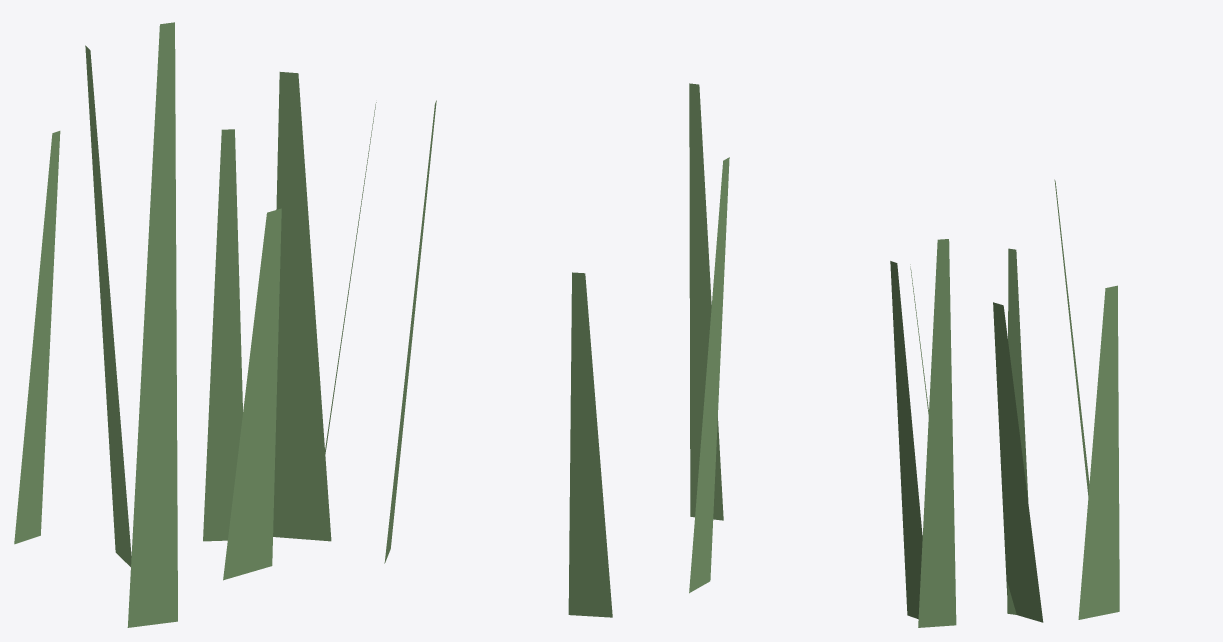
The model's file is veg_grass_green_03.glb.
3 renders of one model, left to right at view 1: azimuth 30°, elevation 25°; view 2: azimuth 150°, elevation 25°; view 3: azimuth 270°, elevation 25°, orthographic. The views are drawn at different scales.
Visible parts, largest first — view 1: blade_03, blade_02, blade_09, blade_04, blade_07, blade_12, blade_00; view 2: blade_01, blade_05, blade_12; view 3: blade_10, blade_11, blade_06, blade_00, blade_08, blade_07.
Part boxes in pixels (x1,y1,x2,y2): blade_03: [127, 22, 177, 627]; blade_02: [273, 72, 331, 541]; blade_09: [223, 208, 281, 580]; blade_04: [203, 129, 242, 541]; blade_07: [14, 131, 60, 544]; blade_12: [85, 45, 131, 566]; blade_00: [384, 100, 436, 563]; blade_01: [568, 272, 612, 617]; blade_05: [689, 83, 723, 520]; blade_12: [689, 157, 729, 593]; blade_10: [918, 239, 956, 627]; blade_11: [1078, 285, 1119, 619]; blade_06: [993, 302, 1043, 622]; blade_00: [890, 261, 922, 619]; blade_08: [1007, 248, 1028, 614]; blade_07: [1054, 179, 1089, 496].
Size of the model in its own units: 0.6393 by 1.16 by 0.7302.
